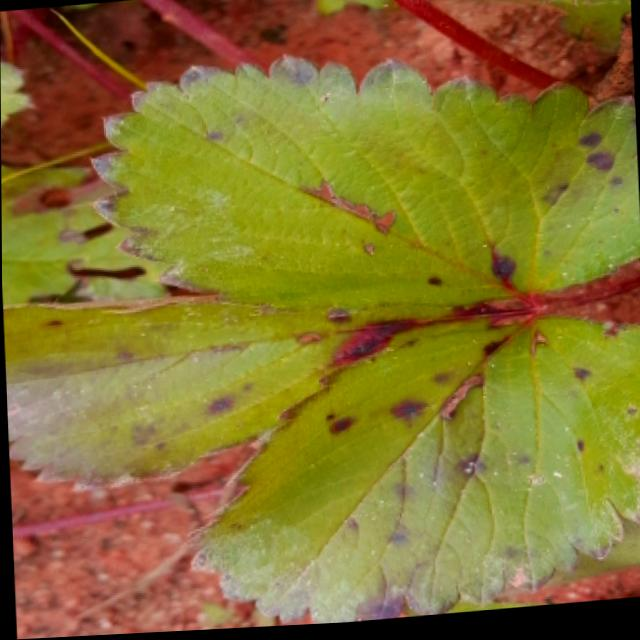Leaf Spot: (181, 313, 640, 627), (85, 55, 640, 312), (2, 297, 498, 493), (553, 526, 640, 592)
